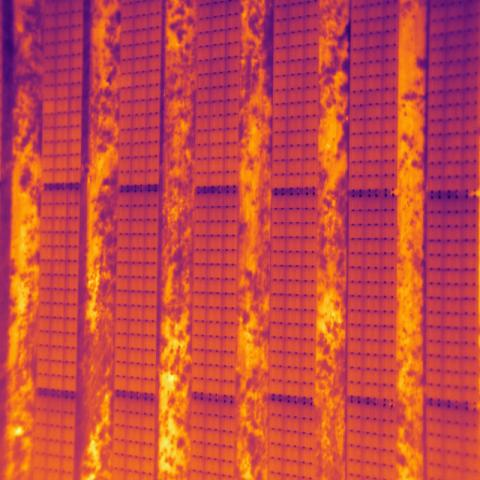fault: (42, 101, 56, 115)
